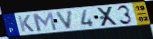3: (116, 5, 134, 26)
4: (80, 9, 95, 28)
K: (17, 14, 36, 33)
M: (31, 12, 59, 33)
V: (55, 9, 75, 30)
X: (96, 5, 119, 27)
